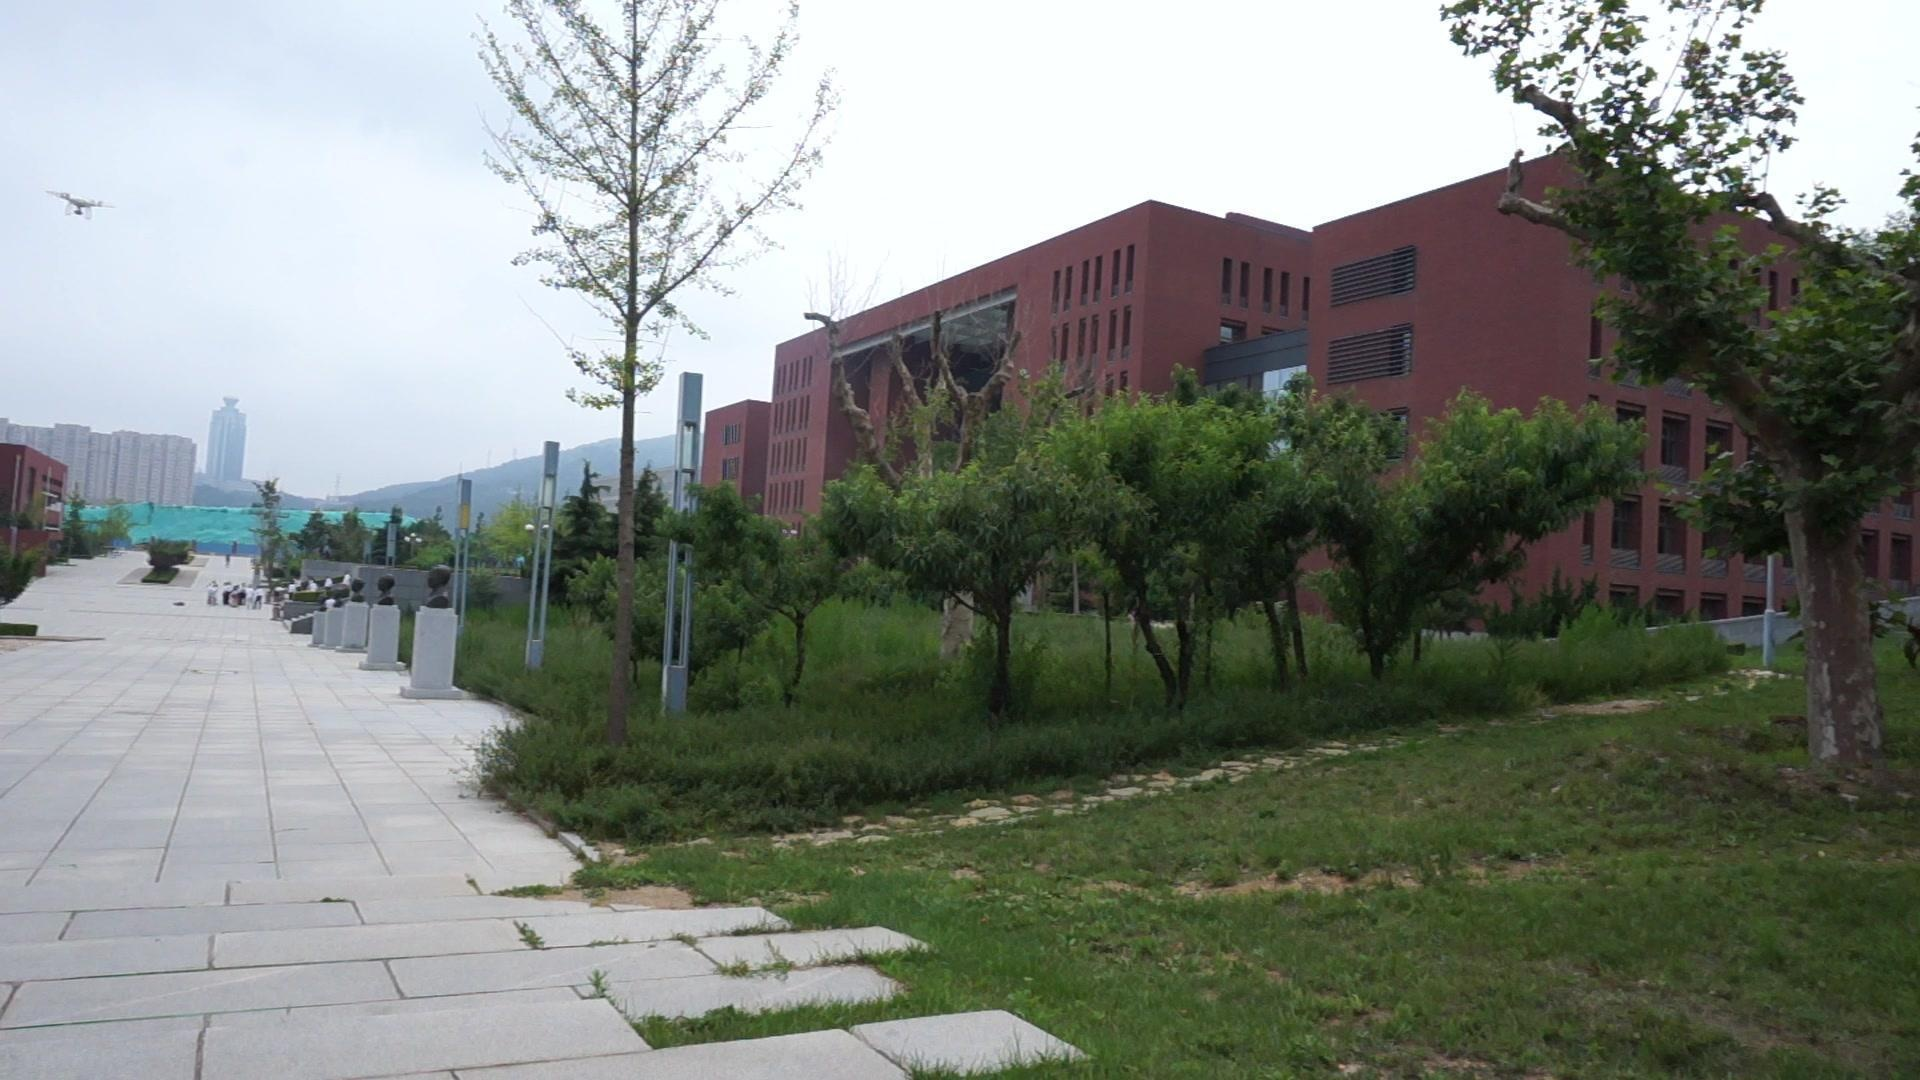UAV: (46, 193, 116, 222)
